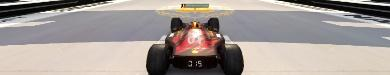Car: (145, 17, 244, 74)
